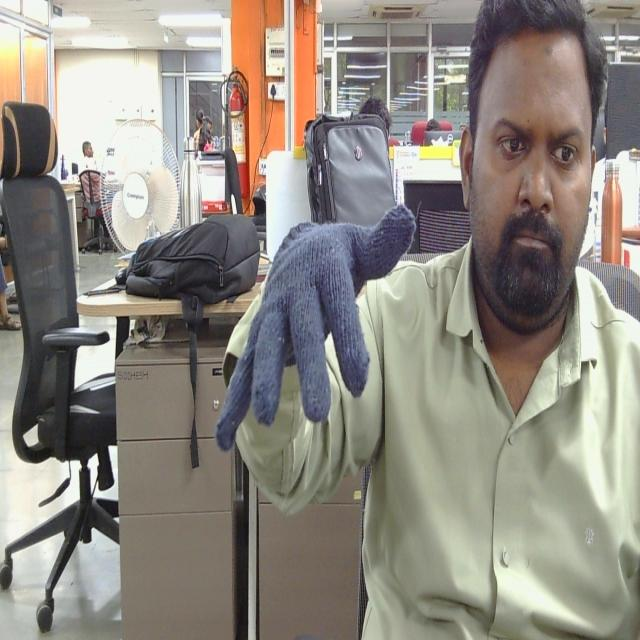Gloves-Detection: (218, 206, 406, 445)
